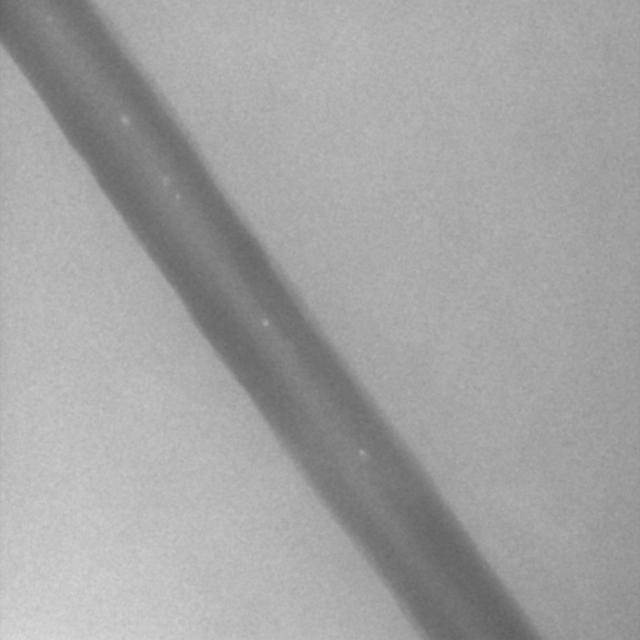air-hole: (121, 113, 131, 125), (162, 171, 172, 183), (177, 196, 180, 206)
